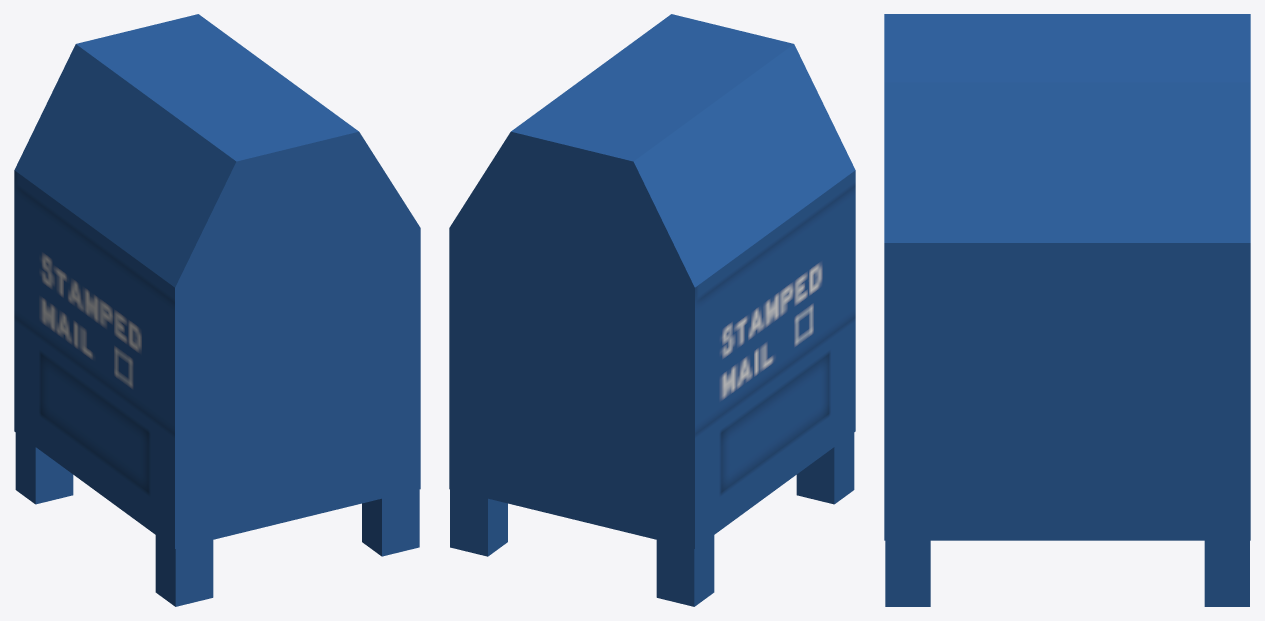
File: mailbox.fbx
The picture shows the model from 3 angles, left to right: view 1: azimuth 30°, elevation 25°; view 2: azimuth 150°, elevation 25°; view 3: azimuth 270°, elevation 25°; orthographic projection. The views are drawn at different scales.
Parts seen in each view (by area): view 1: polySurface8; view 2: polySurface8; view 3: polySurface8.
Part boxes in pixels (bbox=[...]): polySurface8: bbox=[14, 14, 420, 606]; polySurface8: bbox=[449, 14, 855, 606]; polySurface8: bbox=[884, 14, 1250, 606].
Size of the model in its own units: 7.2 by 12.09 by 8.17.
1 material, 1 textured.
